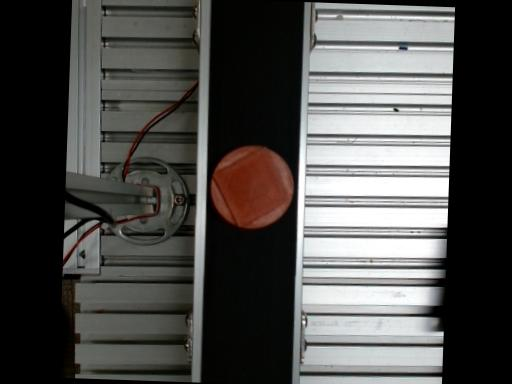Brown_Waper: (209, 145, 292, 228)
Square: (209, 146, 289, 228)
